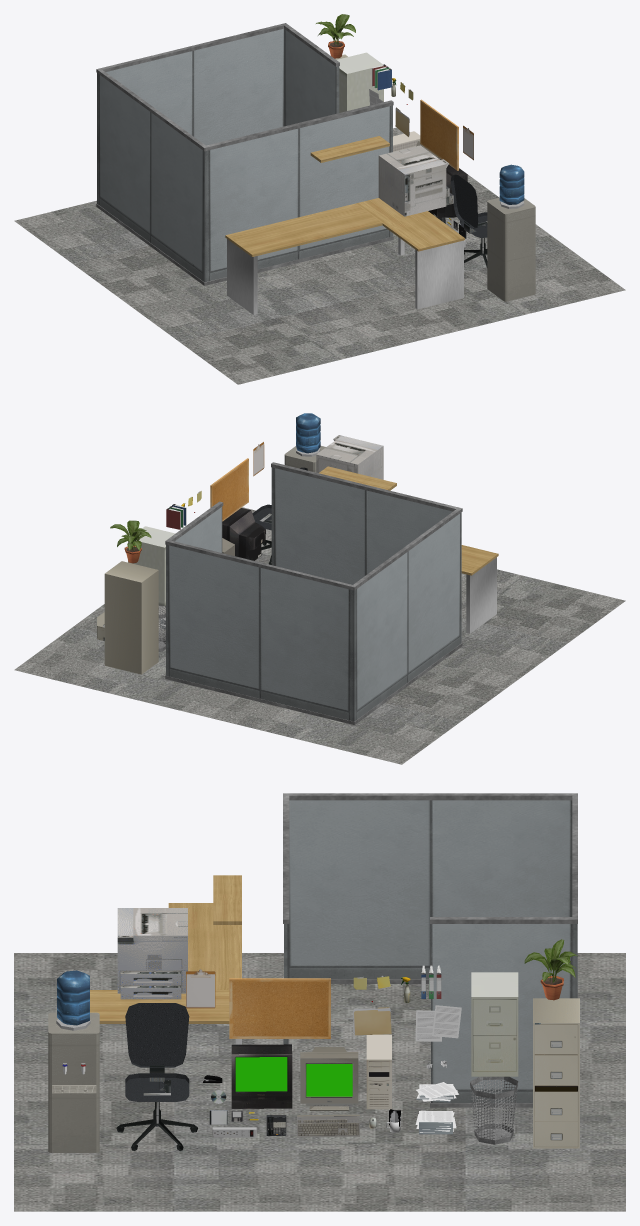
The model's file is Office Supplies.fbx.
3 renders of one model, top to bottom at view 1: azimuth 30°, elevation 25°; view 2: azimuth 150°, elevation 25°; view 3: azimuth 270°, elevation 25°, orthographic. The views are drawn at different scales.
Parts seen in each view (by area): view 1: Cubicle, Carpetimg, Cubicle Desk, Water Cooler, Printer, 2 Drawer Filing Cabinet, Corkboard, Chair, Shelf, Water Jug, Potted Plant, Panasonic VHS TV; view 2: Cubicle, Carpetimg, 4 Drawer Filing Cabinet, Cubicle Desk, Printer, Panasonic VHS TV, Corkboard, 2 Drawer Filing Cabinet, Water Jug, Potted Plant, Shelf, Water Cooler (+1 smaller); view 3: Carpetimg, Cubicle, Water Cooler, Chair, Corkboard, Cubicle Desk, 4 Drawer Filing Cabinet, 2 Drawer Filing Cabinet, Printer, Panasonic VHS TV, Computer Monitor, Trash Cam (+13 smaller).
Part boxes in pixels (<box>): Cubicle: <box>96,23,393,285</box>; Carpetimg: <box>14,127,625,384</box>; Cubicle Desk: <box>225,198,464,314</box>; Water Cooler: <box>487,197,535,301</box>; Printer: <box>378,145,448,216</box>; 2 Drawer Filing Cabinet: <box>337,52,383,112</box>; Corkboard: <box>420,99,458,170</box>; Chair: <box>450,174,487,267</box>; Shelf: <box>310,136,389,162</box>; Water Jug: <box>499,164,524,204</box>; Potted Plant: <box>316,14,355,58</box>; Panasonic VHS TV: <box>428,159,467,218</box>; Cubicle: <box>165,462,462,724</box>; Carpetimg: <box>14,507,625,764</box>; 4 Drawer Filing Cabinet: <box>104,561,158,674</box>; Cubicle Desk: <box>461,545,498,633</box>; Printer: <box>316,435,383,479</box>; Panasonic VHS TV: <box>222,508,265,560</box>; Corkboard: <box>210,458,248,521</box>; 2 Drawer Filing Cabinet: <box>128,526,175,605</box>; Water Jug: <box>296,413,320,453</box>; Potted Plant: <box>110,520,151,563</box>; Shelf: <box>319,466,396,490</box>; Water Cooler: <box>284,446,325,472</box>; Carpetimg: <box>14,953,625,1211</box>; Cubicle: <box>283,793,577,1107</box>; Water Cooler: <box>48,1012,99,1152</box>; Chair: <box>116,1003,197,1150</box>; Corkboard: <box>229,978,330,1038</box>; Cubicle Desk: <box>90,903,241,1044</box>; 4 Drawer Filing Cabinet: <box>533,998,579,1148</box>; 2 Drawer Filing Cabinet: <box>471,972,518,1076</box>; Printer: <box>117,908,187,993</box>; Panasonic VHS TV: <box>231,1044,292,1108</box>; Computer Monitor: <box>300,1047,358,1110</box>; Trash Cam: <box>470,1076,518,1144</box>.
Size of the model in its own units: 500 by 183 by 500.
Materials: 34 (33 with a texture image).
